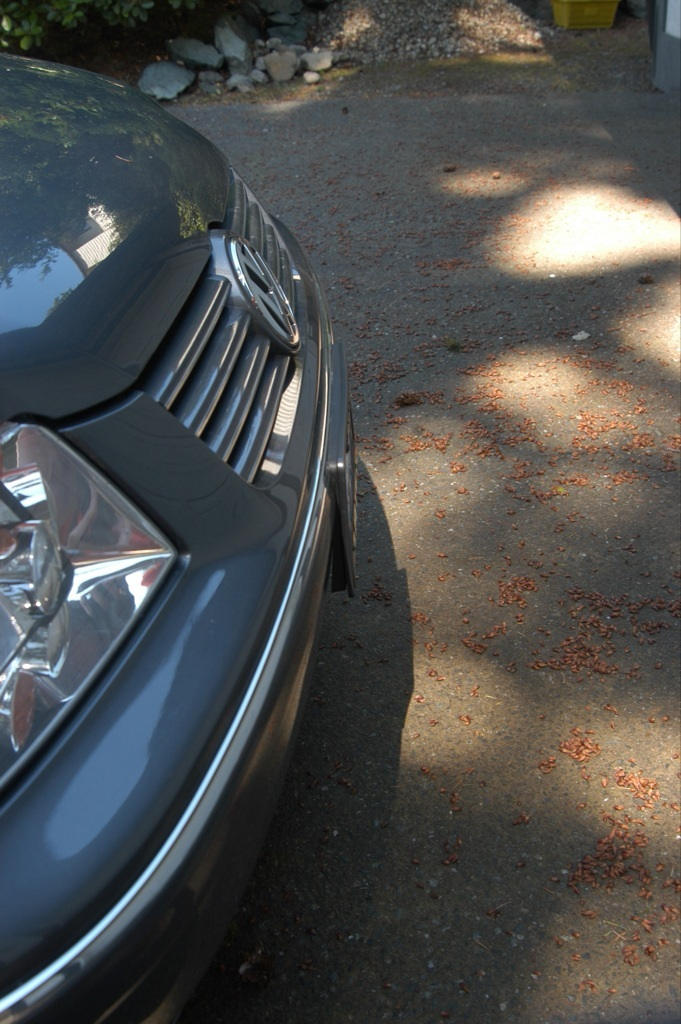Car: (11, 21, 373, 1024)
